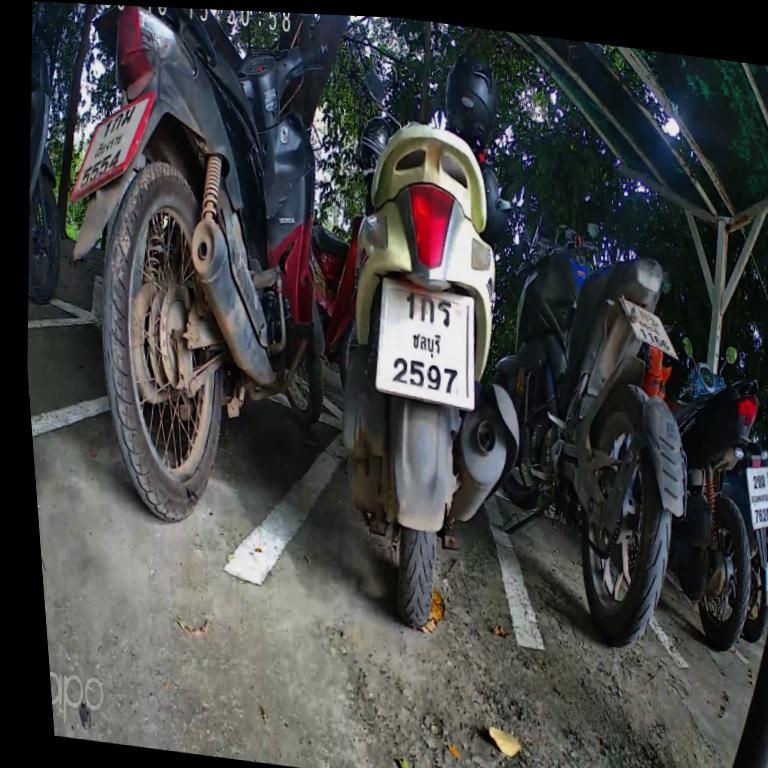license plate: (360, 263, 497, 429), (56, 71, 172, 234), (610, 284, 689, 372), (733, 449, 768, 536)
